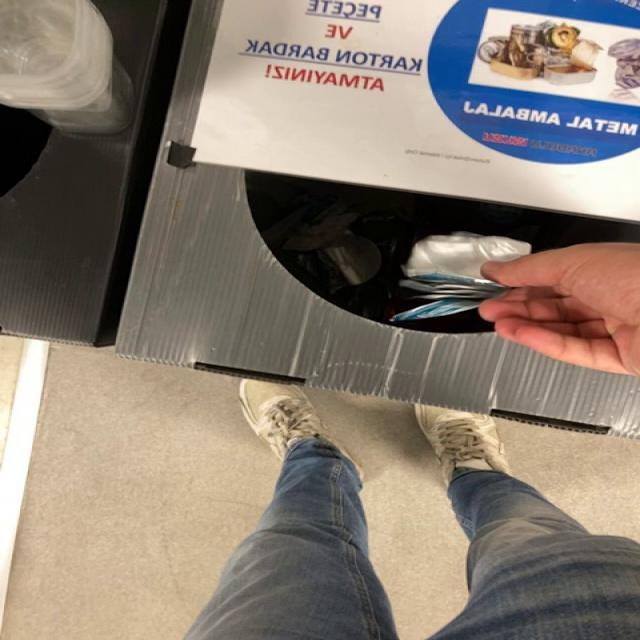bin: (117, 0, 640, 438)
metal: (391, 231, 531, 322)
